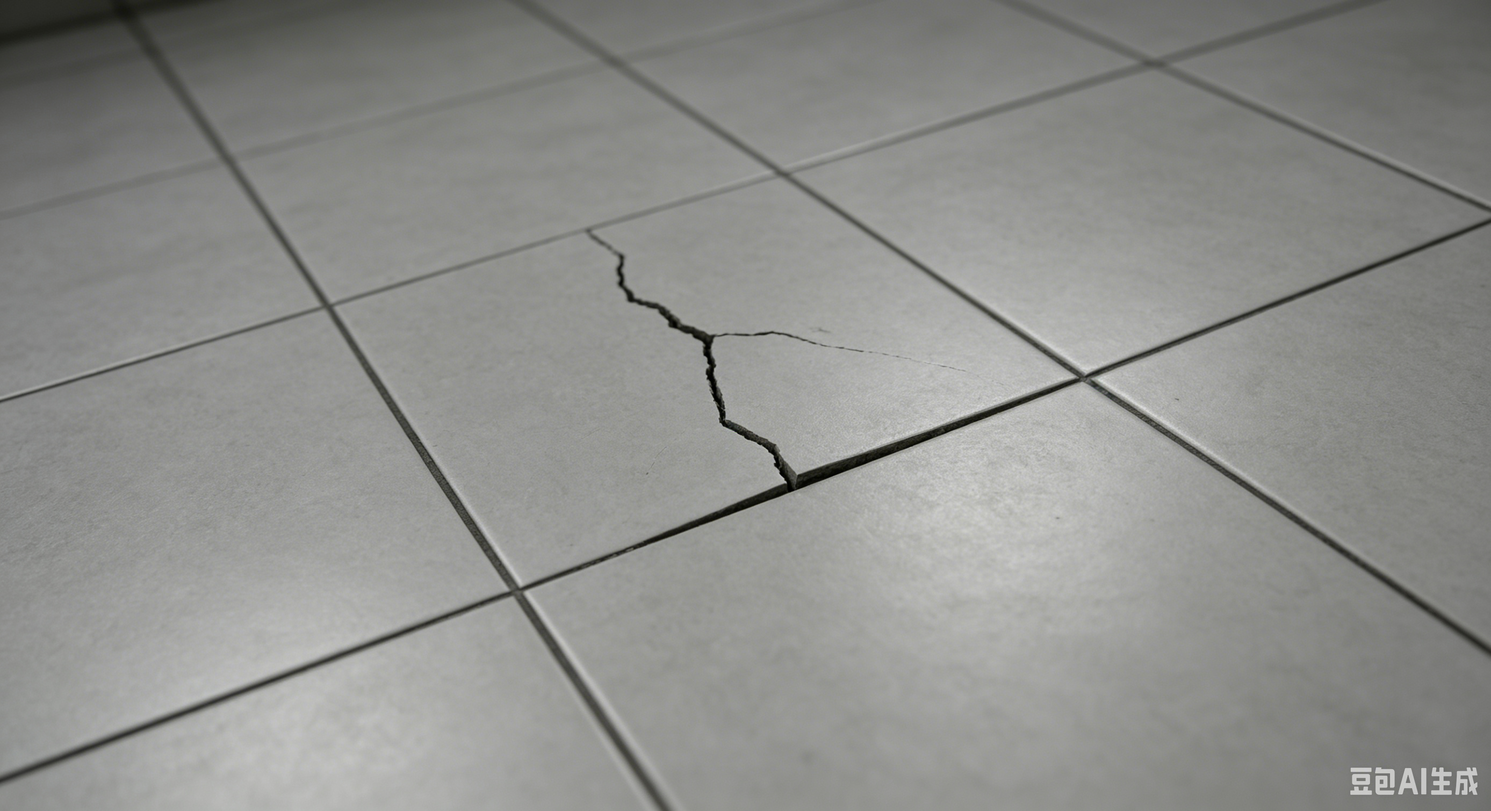floor_defect: (570, 231, 813, 502), (810, 319, 969, 505)
